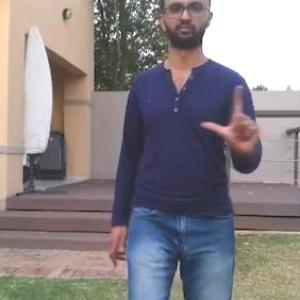land_hand: (200, 76, 270, 160)
